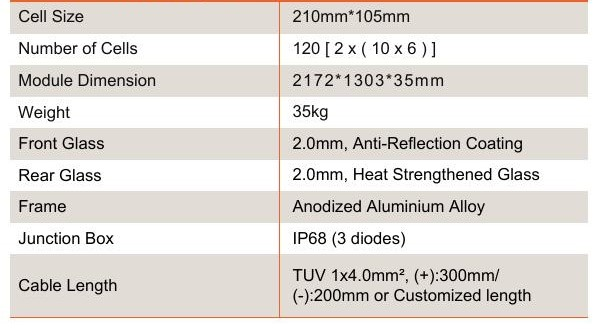table: (4, 1, 594, 326)
table column: (285, 1, 579, 321), (10, 1, 277, 321)
table row: (7, 256, 590, 314), (7, 2, 591, 33), (8, 99, 592, 127), (7, 193, 591, 221), (8, 37, 591, 65), (8, 130, 591, 158), (8, 67, 592, 94), (7, 225, 591, 252), (9, 162, 590, 189)
